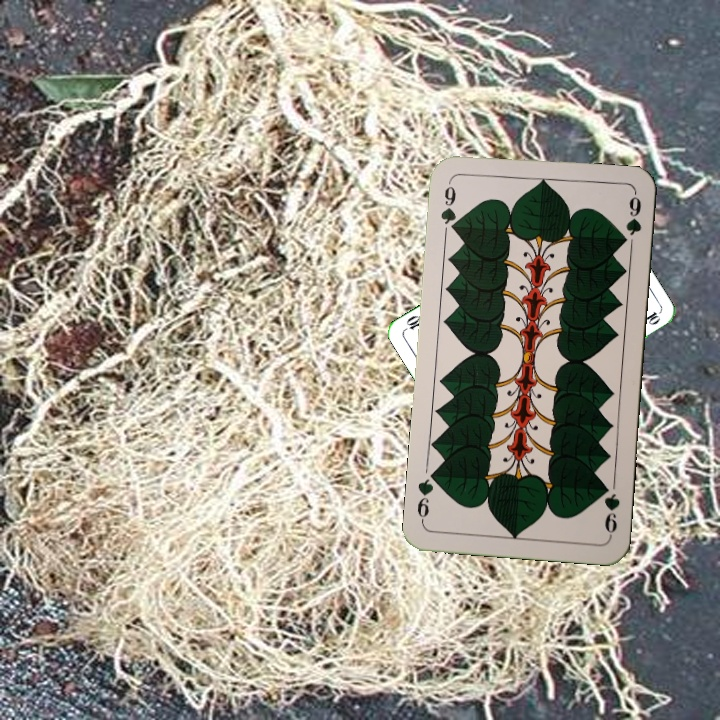G9: (598, 480, 623, 539), (436, 177, 460, 236)
